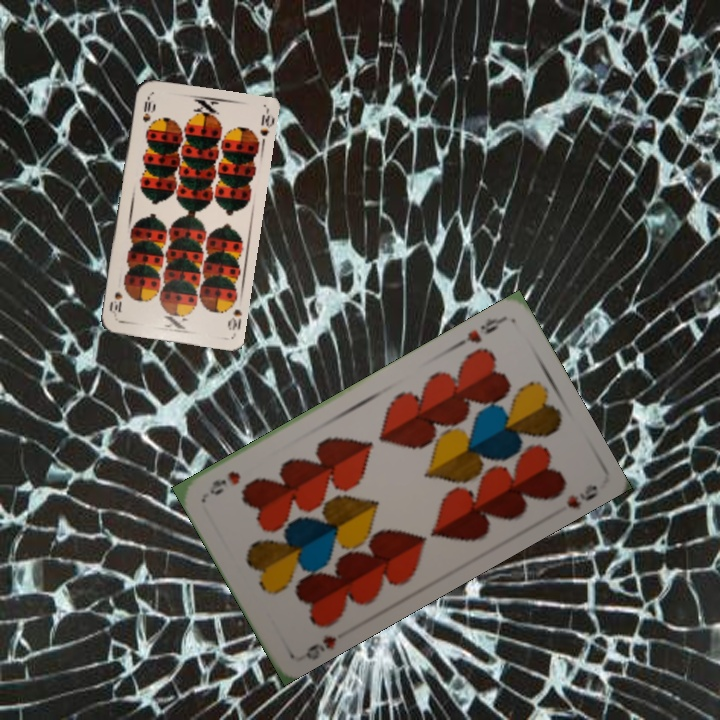H9: (452, 314, 507, 350), (301, 630, 339, 662)
S10: (223, 305, 244, 333), (138, 92, 154, 125)
